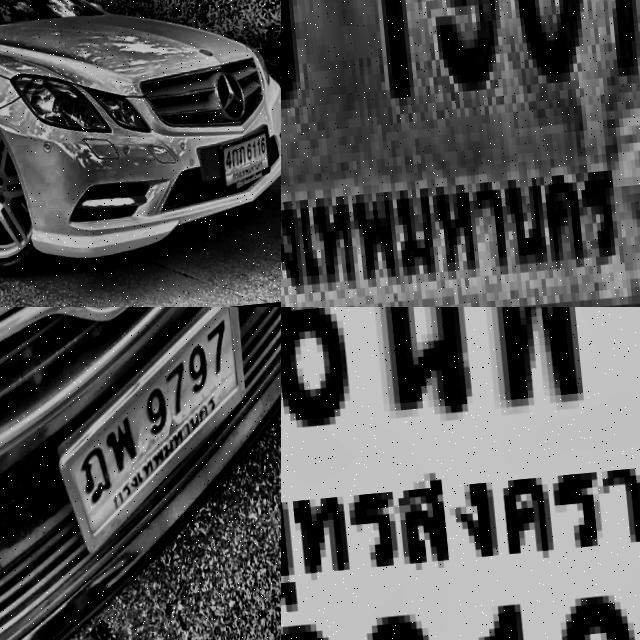license-plate: (281, 307, 640, 640), (281, 0, 640, 307), (35, 307, 253, 564), (207, 136, 265, 208)
